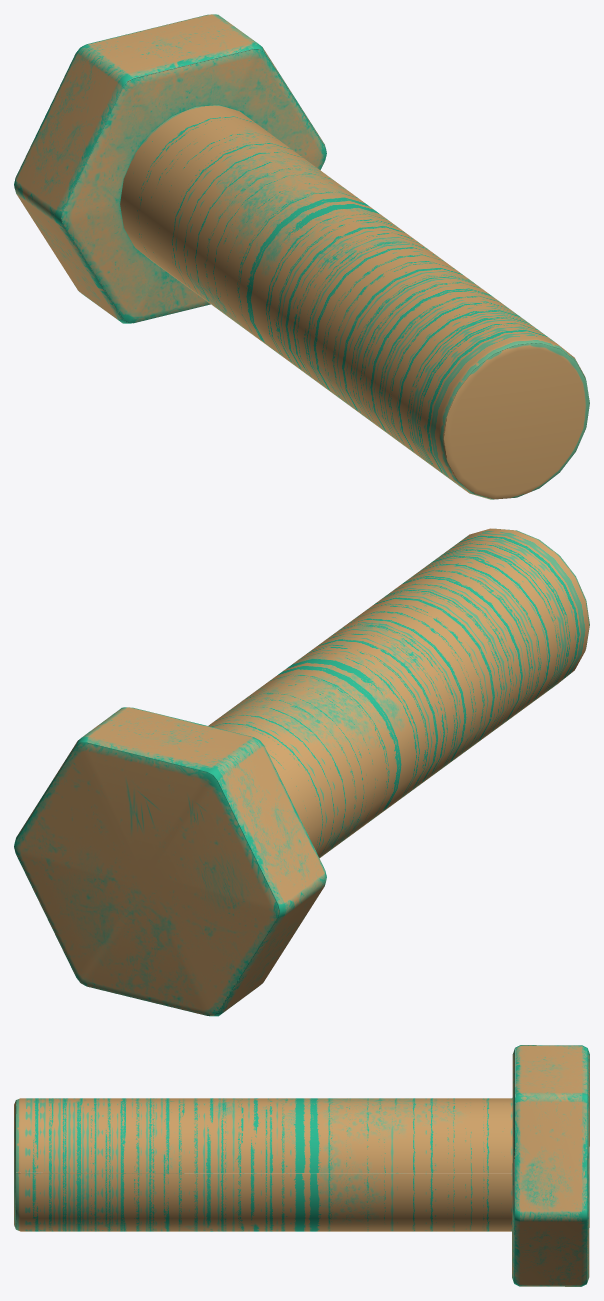
The model's file is Bolt_2.fbx.
3 renders of one model, top to bottom at view 1: azimuth 30°, elevation 25°; view 2: azimuth 150°, elevation 25°; view 3: azimuth 270°, elevation 25°, orthographic. The views are drawn at different scales.
Parts seen in each view (by area): view 1: pCylinder3; view 2: pCylinder3; view 3: pCylinder3.
Boxes of the visible parts, x1,y1,x2,y2 form: pCylinder3: [14, 14, 589, 499]; pCylinder3: [14, 528, 589, 1016]; pCylinder3: [14, 1045, 589, 1286].
Bounding box in the file's own units: 3.61 × 3.17 × 8.57.
1 material, 1 textured.
